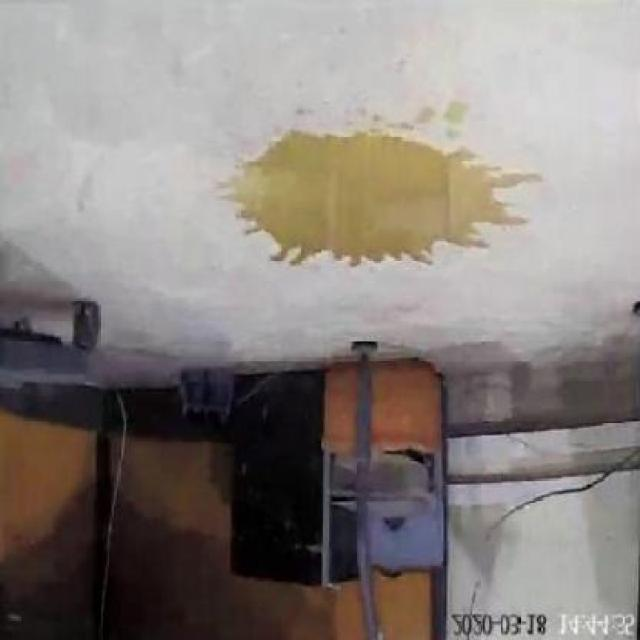spillage: (229, 128, 525, 266)
